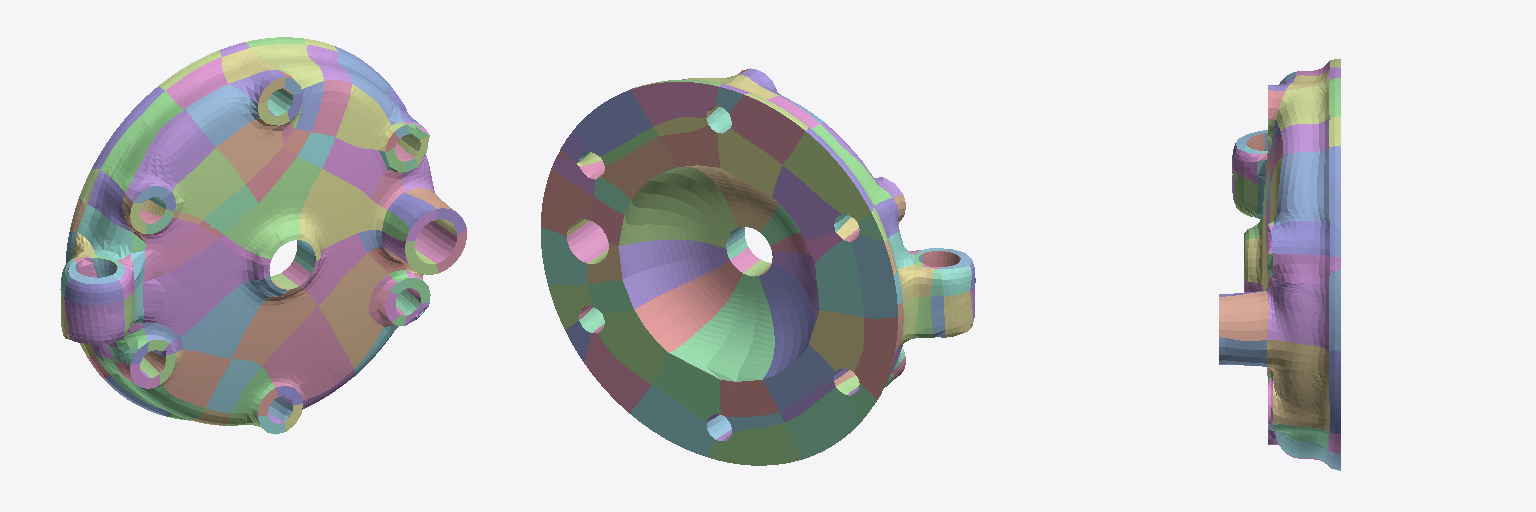
The model's file is mnf07HeadFem_rem_rem_p_quadrangulation.obj.
3 renders of one model, left to right at view 1: azimuth 30°, elevation 25°; view 2: azimuth 150°, elevation 25°; view 3: azimuth 270°, elevation 25°, orthographic.
Bounding box in the file's own units: 119 × 108 × 31.75.